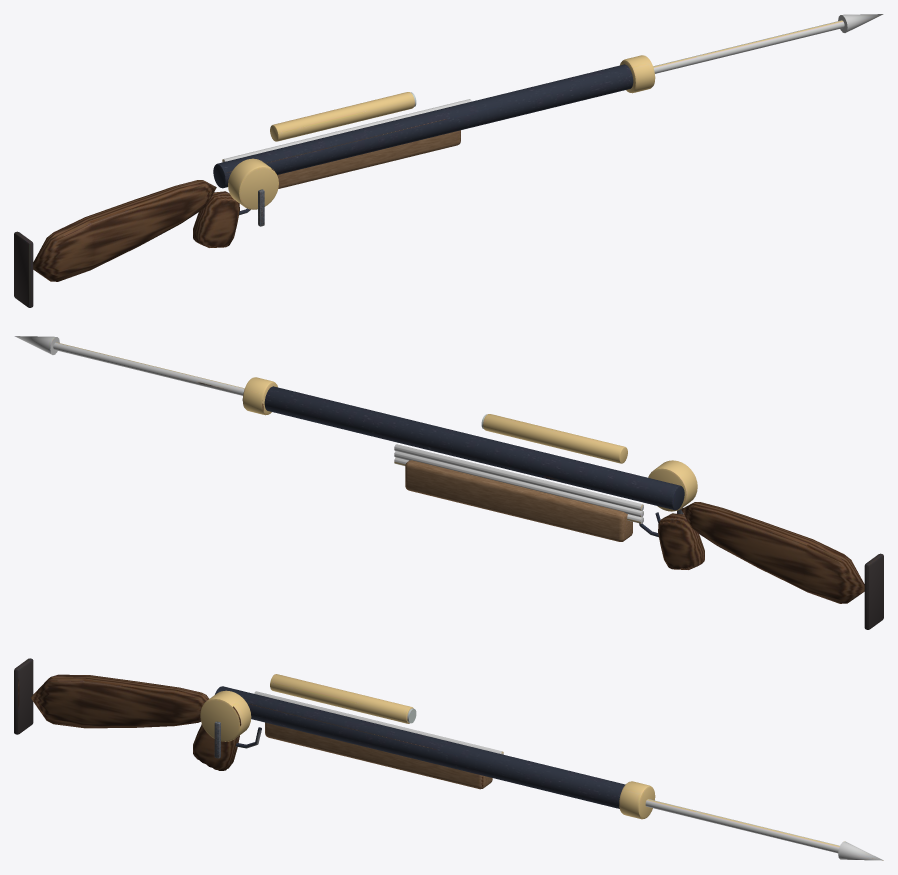
File: boltharpoon.glb
3 renders of one model, top to bottom at view 1: azimuth 30°, elevation 25°; view 2: azimuth 150°, elevation 25°; view 3: azimuth 330°, elevation 25°, orthographic.
Parts seen in each view (by area): view 1: tube, stock, quiver, scope, grip, winch, bolt, butt_plate, q_bolt2, muzzle_ring; view 2: tube, stock, quiver, scope, grip, q_bolt2, bolt, q_bolt1, butt_plate, winch, muzzle_ring; view 3: tube, stock, quiver, scope, winch, bolt, butt_plate, grip, muzzle_ring, q_bolt2, bolt_head.
Part boxes in pixels (bbox=[...]): tube: bbox=[213, 64, 633, 188]; stock: bbox=[33, 180, 216, 281]; quiver: bbox=[277, 130, 460, 188]; scope: bbox=[270, 92, 414, 141]; grip: bbox=[193, 191, 239, 247]; winch: bbox=[228, 158, 278, 209]; bolt: bbox=[653, 20, 844, 73]; butt_plate: bbox=[14, 231, 33, 307]; q_bolt2: bbox=[222, 99, 471, 162]; muzzle_ring: bbox=[620, 55, 655, 93]; tube: bbox=[264, 386, 684, 510]; stock: bbox=[681, 502, 864, 603]; quiver: bbox=[405, 460, 632, 541]; scope: bbox=[483, 414, 627, 463]; grip: bbox=[658, 513, 704, 569]; q_bolt2: bbox=[394, 444, 643, 510]; bolt: bbox=[53, 342, 244, 395]; q_bolt1: bbox=[394, 451, 643, 517]; butt_plate: bbox=[864, 553, 883, 629]; winch: bbox=[648, 460, 697, 511]; muzzle_ring: bbox=[242, 377, 277, 415]; tube: bbox=[215, 686, 625, 808]; stock: bbox=[30, 674, 209, 728]; quiver: bbox=[265, 722, 492, 789]; scope: bbox=[270, 674, 413, 723]; winch: bbox=[200, 690, 251, 741]; bolt: bbox=[645, 799, 839, 853]; butt_plate: bbox=[14, 658, 33, 734]; grip: bbox=[193, 724, 239, 770]; muzzle_ring: bbox=[619, 781, 655, 819]; q_bolt2: bbox=[254, 691, 503, 754]; bolt_head: bbox=[838, 841, 883, 860].
Bounding box in the file's own units: 1.26 × 0.162 × 0.113.
Materials: 1 (1 with a texture image).
